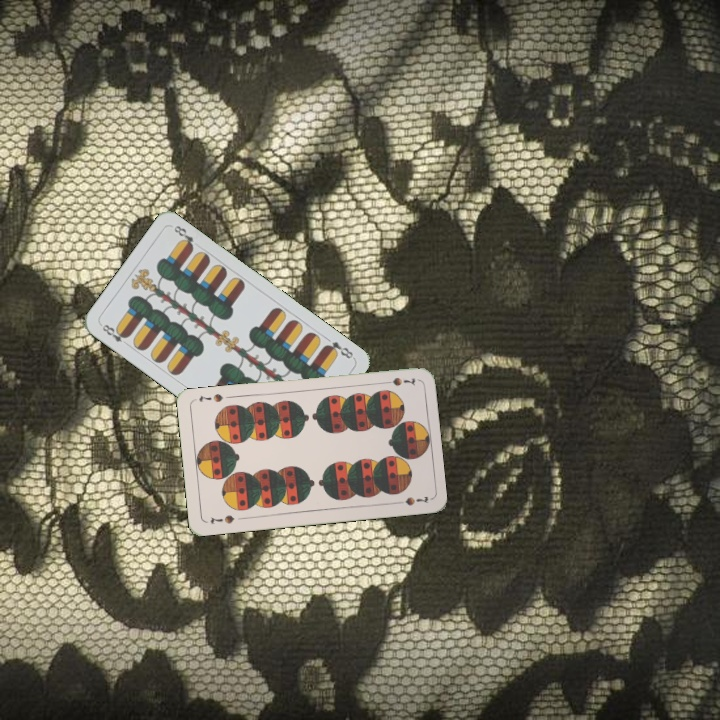E8: (320, 337, 356, 361), (97, 320, 131, 345)
S7: (379, 373, 418, 388), (206, 511, 237, 527)
